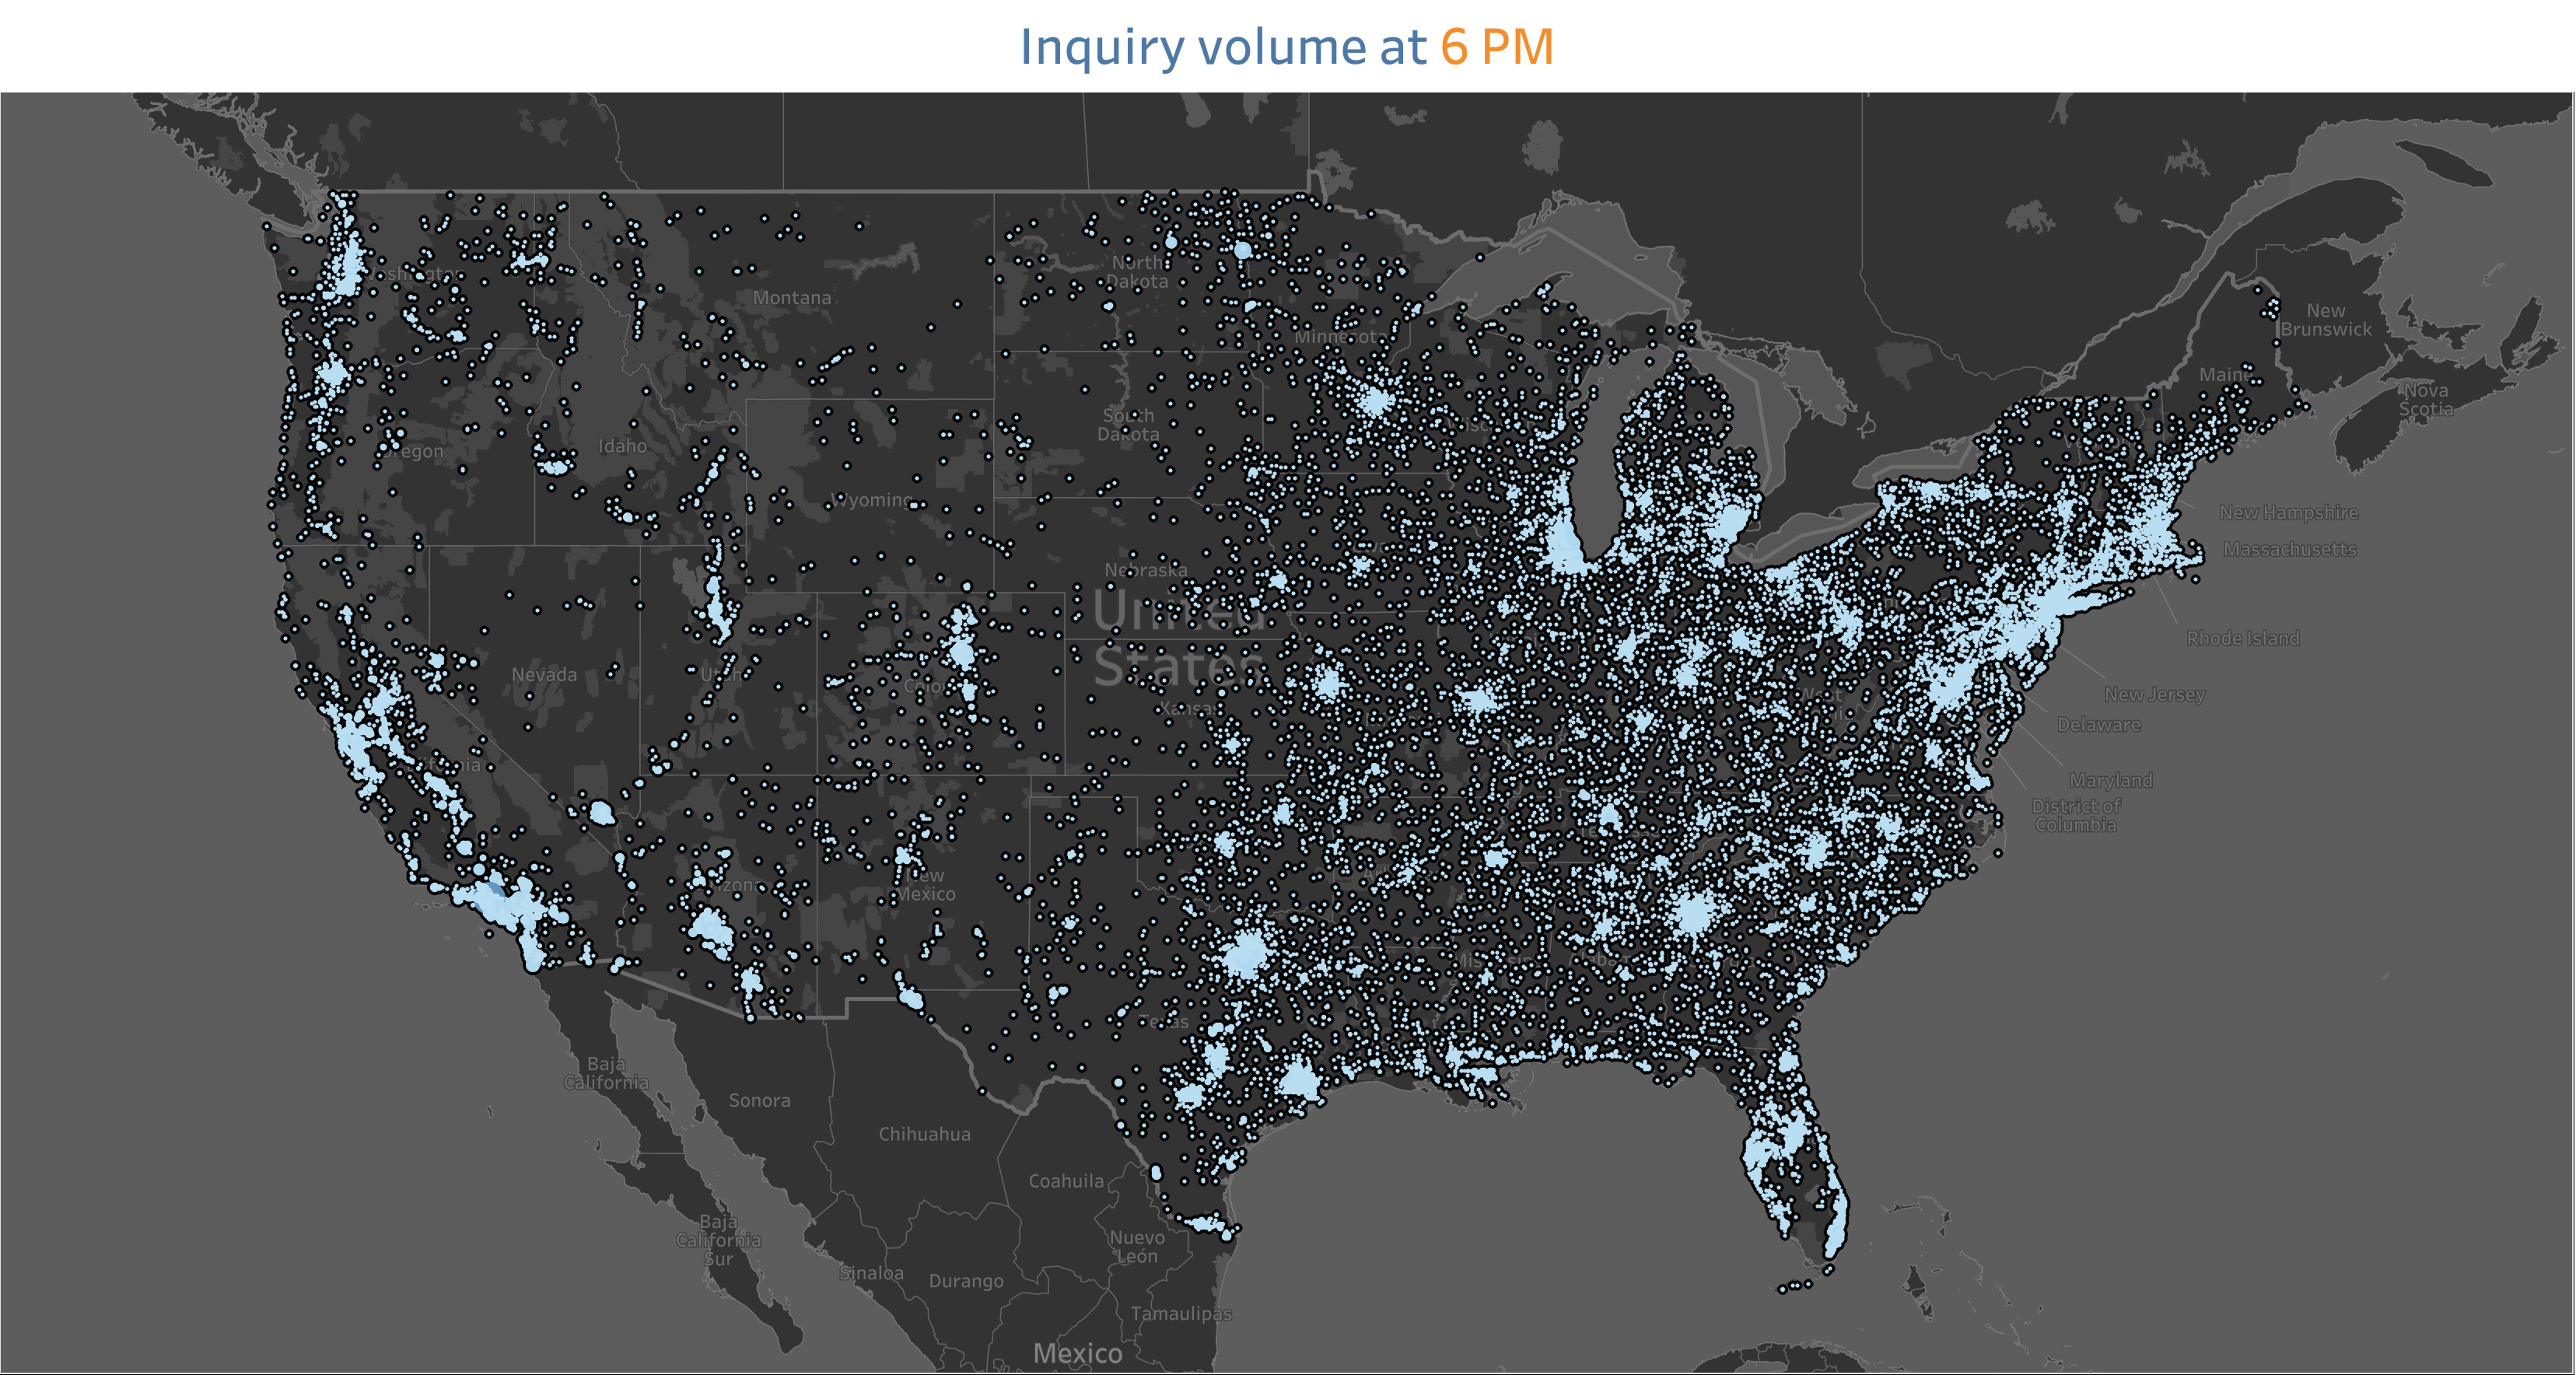

The page's visual inventory and layout, read from the dashboard file:
{"tool":"tableau","page":{"name":"Dashboard 1","canvas":[1000,1000],"units":"permille","ordinal":0},"visuals":[{"type":"worksheet","title":"Sheet 1","mark":"Automatic","box":[4.7,8.8,990.6,982.3]},{"type":"currpage","title":"Sheet 1","box":[883,30.9,87.8,105]}]}

Visuals, with their boxes on the dashboard's canvas, which has no fixed pixel size, in thousandths of its width and height (x1, y1, x2, y2). These are canvas units, not pixel positions in the 2576x1375 screenshot, which may show the page scaled, cropped or inside an application window:
"Sheet 1" worksheet: select_region(5, 9, 995, 991)
"Sheet 1" currpage: select_region(883, 31, 971, 136)
